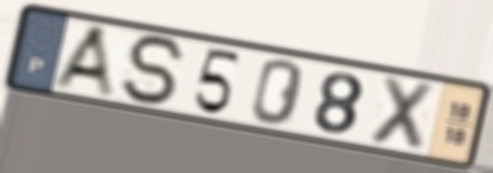0: (249, 57, 307, 127)
5: (191, 45, 243, 115)
8: (313, 70, 366, 136)
A: (48, 23, 119, 103)
S: (120, 32, 191, 109)
X: (365, 73, 440, 156)
